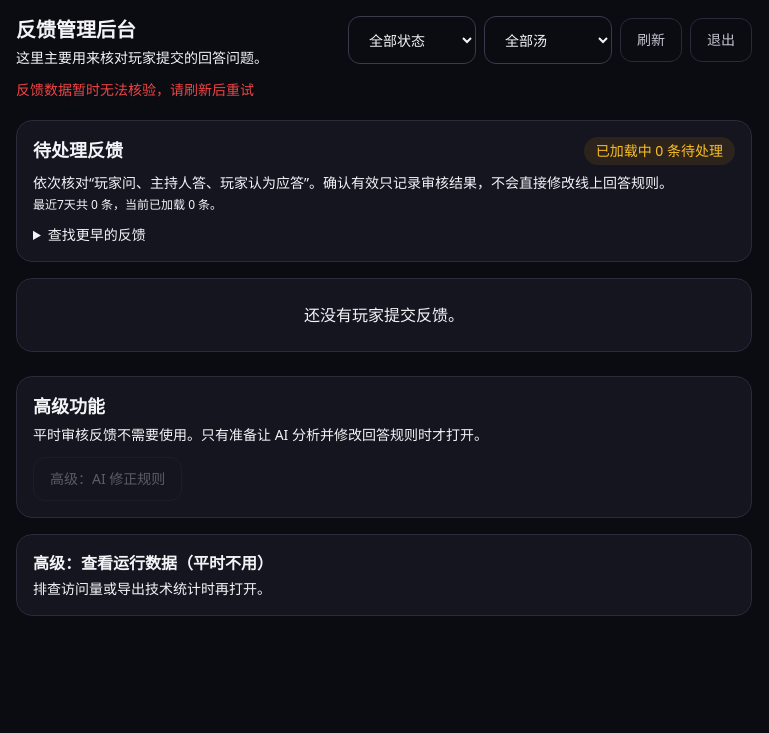
initial invalid response leaves a usable refresh action that retrieves verified rows
The width and height of the screenshot is (769, 733).
Expected: the text "反馈数据暂时无法核验，请刷新后重试" is shown, [16,80,254,99]
Click the button "刷新".
click(651, 40)  # box [620,18,682,62]
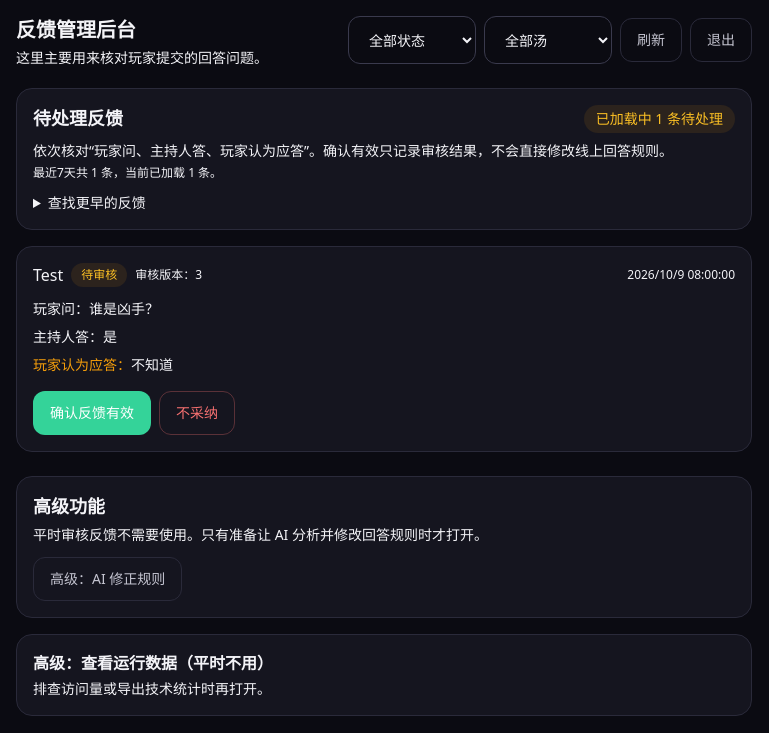
Result: the text "谁是凶手？" is shown at [89,299,159,318]
